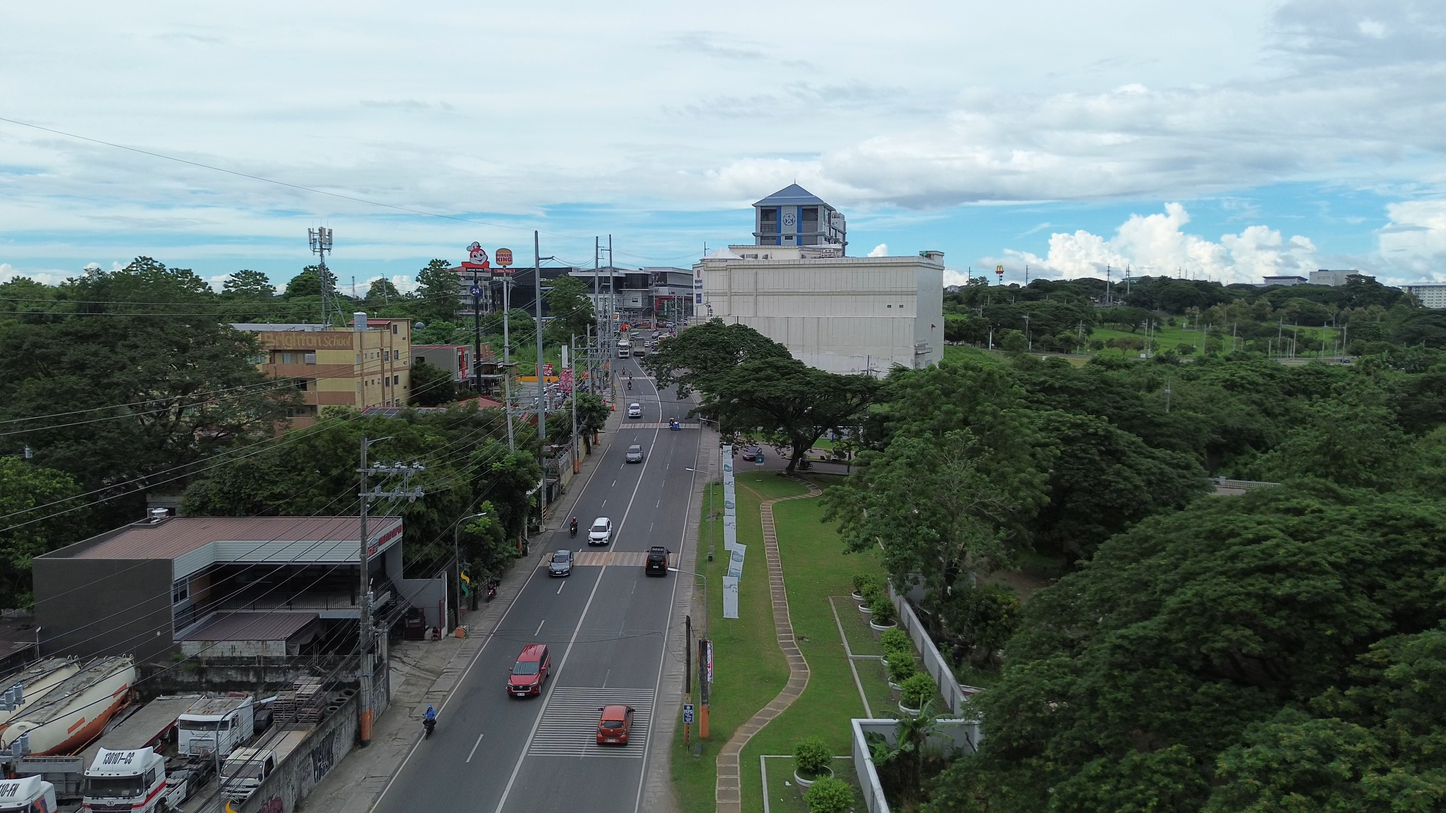car: (596, 704, 634, 745), (587, 517, 613, 545), (548, 550, 574, 576), (741, 445, 762, 461), (626, 403, 642, 418), (651, 330, 662, 339)
motorcycle: (485, 580, 499, 602), (424, 717, 435, 738), (569, 518, 578, 537)
truck: (84, 747, 199, 813), (220, 725, 314, 804)
vehicle: (0, 656, 136, 755), (83, 748, 193, 813), (178, 692, 254, 758), (220, 747, 276, 803), (507, 644, 549, 697), (0, 776, 58, 813), (645, 546, 670, 576), (625, 444, 643, 463), (617, 339, 631, 358), (569, 516, 578, 537), (651, 330, 661, 340)
